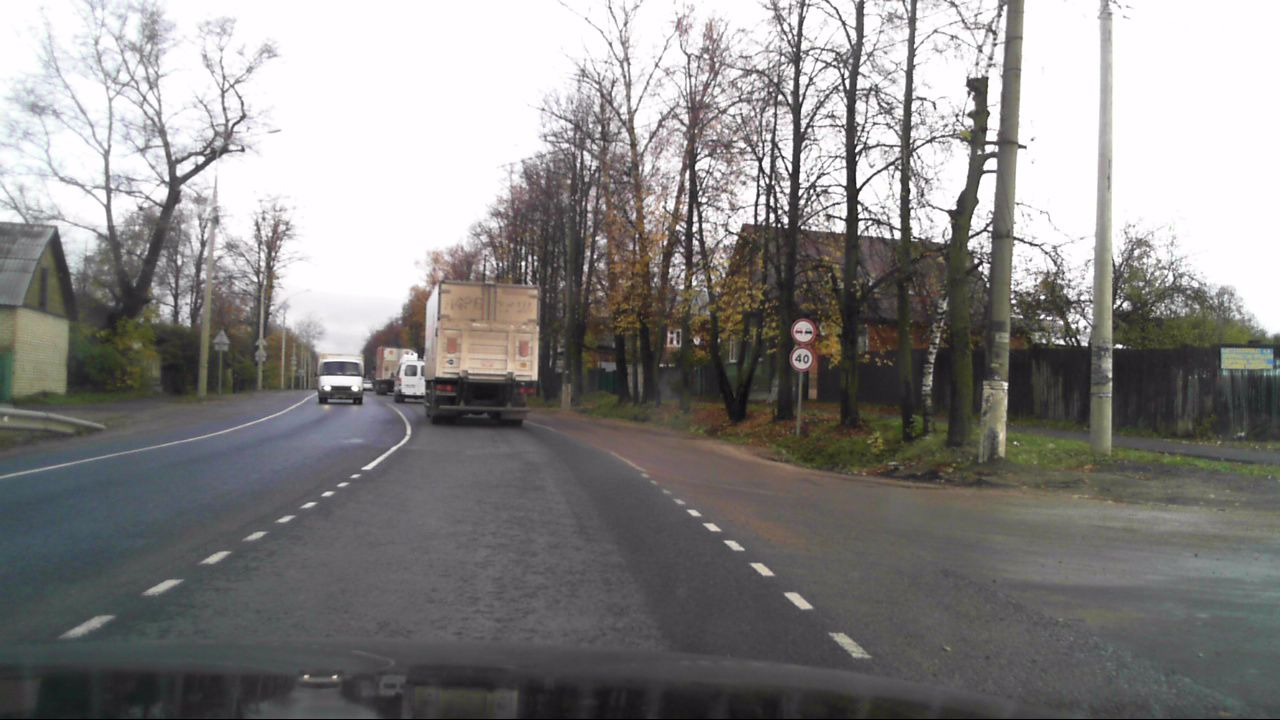speed_warning_40: (789, 345, 815, 371)
